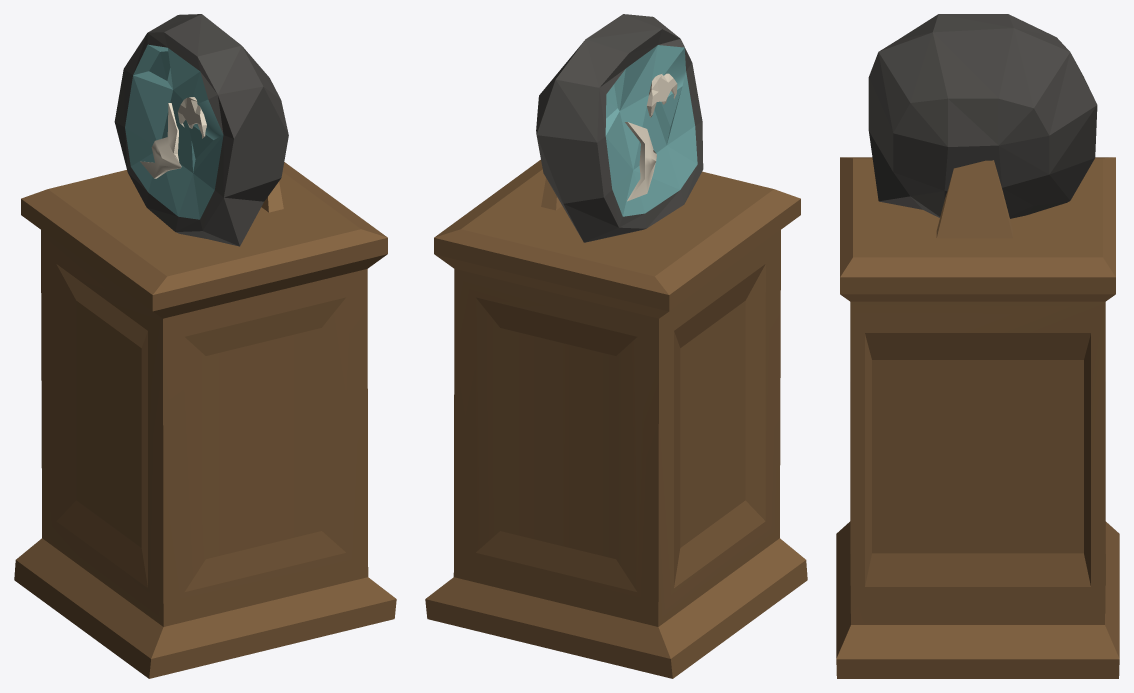
File: gem 4 display.fbx
3 renders of one model, left to right at view 1: azimuth 30°, elevation 25°; view 2: azimuth 150°, elevation 25°; view 3: azimuth 270°, elevation 25°, orthographic. The views are drawn at different scales.
Visible parts, largest first — view 1: pCube74, pCube22, pCube23, pCube24; view 2: pCube74, pCube22, pCube23, pCube24; view 3: pCube74, pCube22, pCube75.
Boxes of the visible parts, x1,y1,x2,y2 form: pCube74: (14, 162, 396, 678); pCube22: (114, 14, 288, 246); pCube23: (140, 103, 181, 178); pCube24: (178, 97, 206, 138); pCube74: (425, 159, 807, 678); pCube22: (536, 14, 703, 242); pCube23: (625, 122, 656, 201); pCube24: (646, 73, 677, 117); pCube74: (836, 157, 1119, 678); pCube22: (868, 14, 1097, 218); pCube75: (936, 160, 1012, 238).
Bounding box in the file's own units: 1.86 × 4.09 × 1.76.
